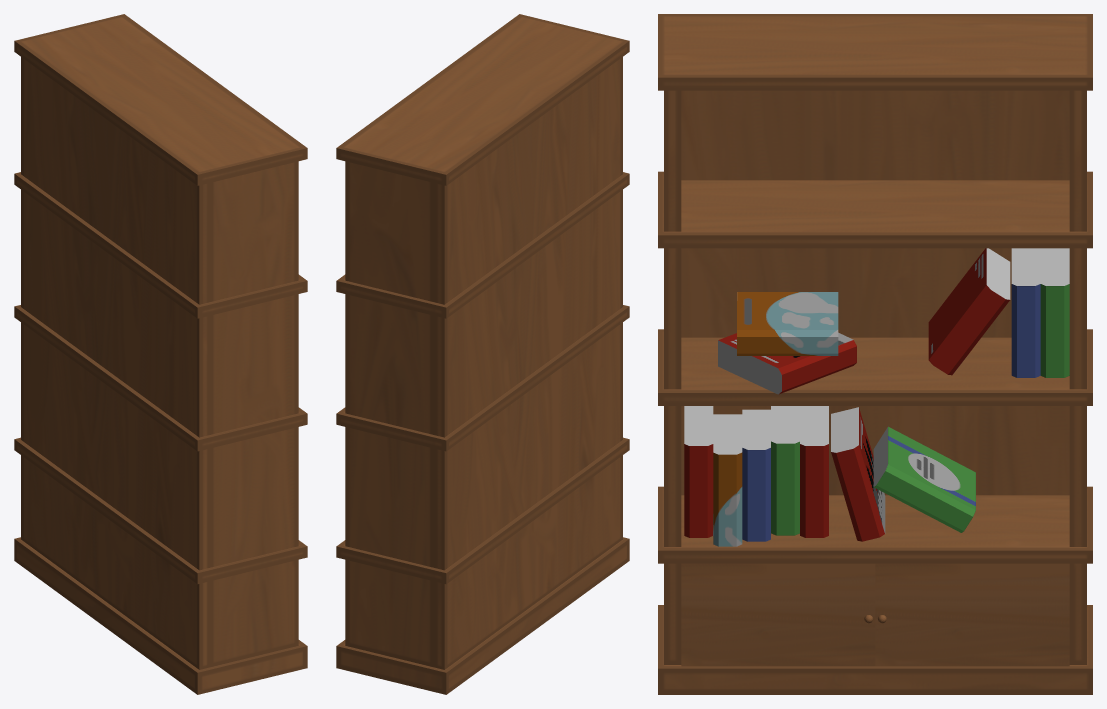
File: Rak_Buku.fbx
3 renders of one model, left to right at view 1: azimuth 30°, elevation 25°; view 2: azimuth 150°, elevation 25°; view 3: azimuth 270°, elevation 25°, orthographic. The views are drawn at different scales.
Visible parts, largest first — view 1: Cube.001; view 2: Cube.001; view 3: Cube.001, Rak_Buku.002, Rak_Buku_Pintu_Bawah_(L).001, Rak_Buku_Pintu_Bawah_(L).
Part boxes in pixels (x1=…): Cube.001: x1=14, y1=14, x2=307, y2=694; Cube.001: x1=336, y1=14, x2=629, y2=694; Cube.001: x1=658, y1=14, x2=1092, y2=694; Rak_Buku.002: x1=684, y1=248, x2=1069, y2=546; Rak_Buku_Pintu_Bawah_(L).001: x1=875, y1=563, x2=1069, y2=666; Rak_Buku_Pintu_Bawah_(L): x1=681, y1=563, x2=875, y2=666.
Bounding box in the file's own units: 54.93 × 235 × 150.
Materials: 2 (2 with a texture image).
